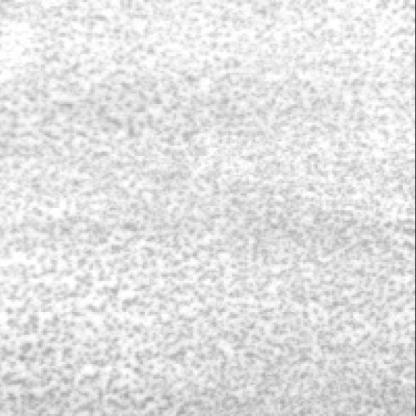pitted_surface: (0, 2, 412, 416)
